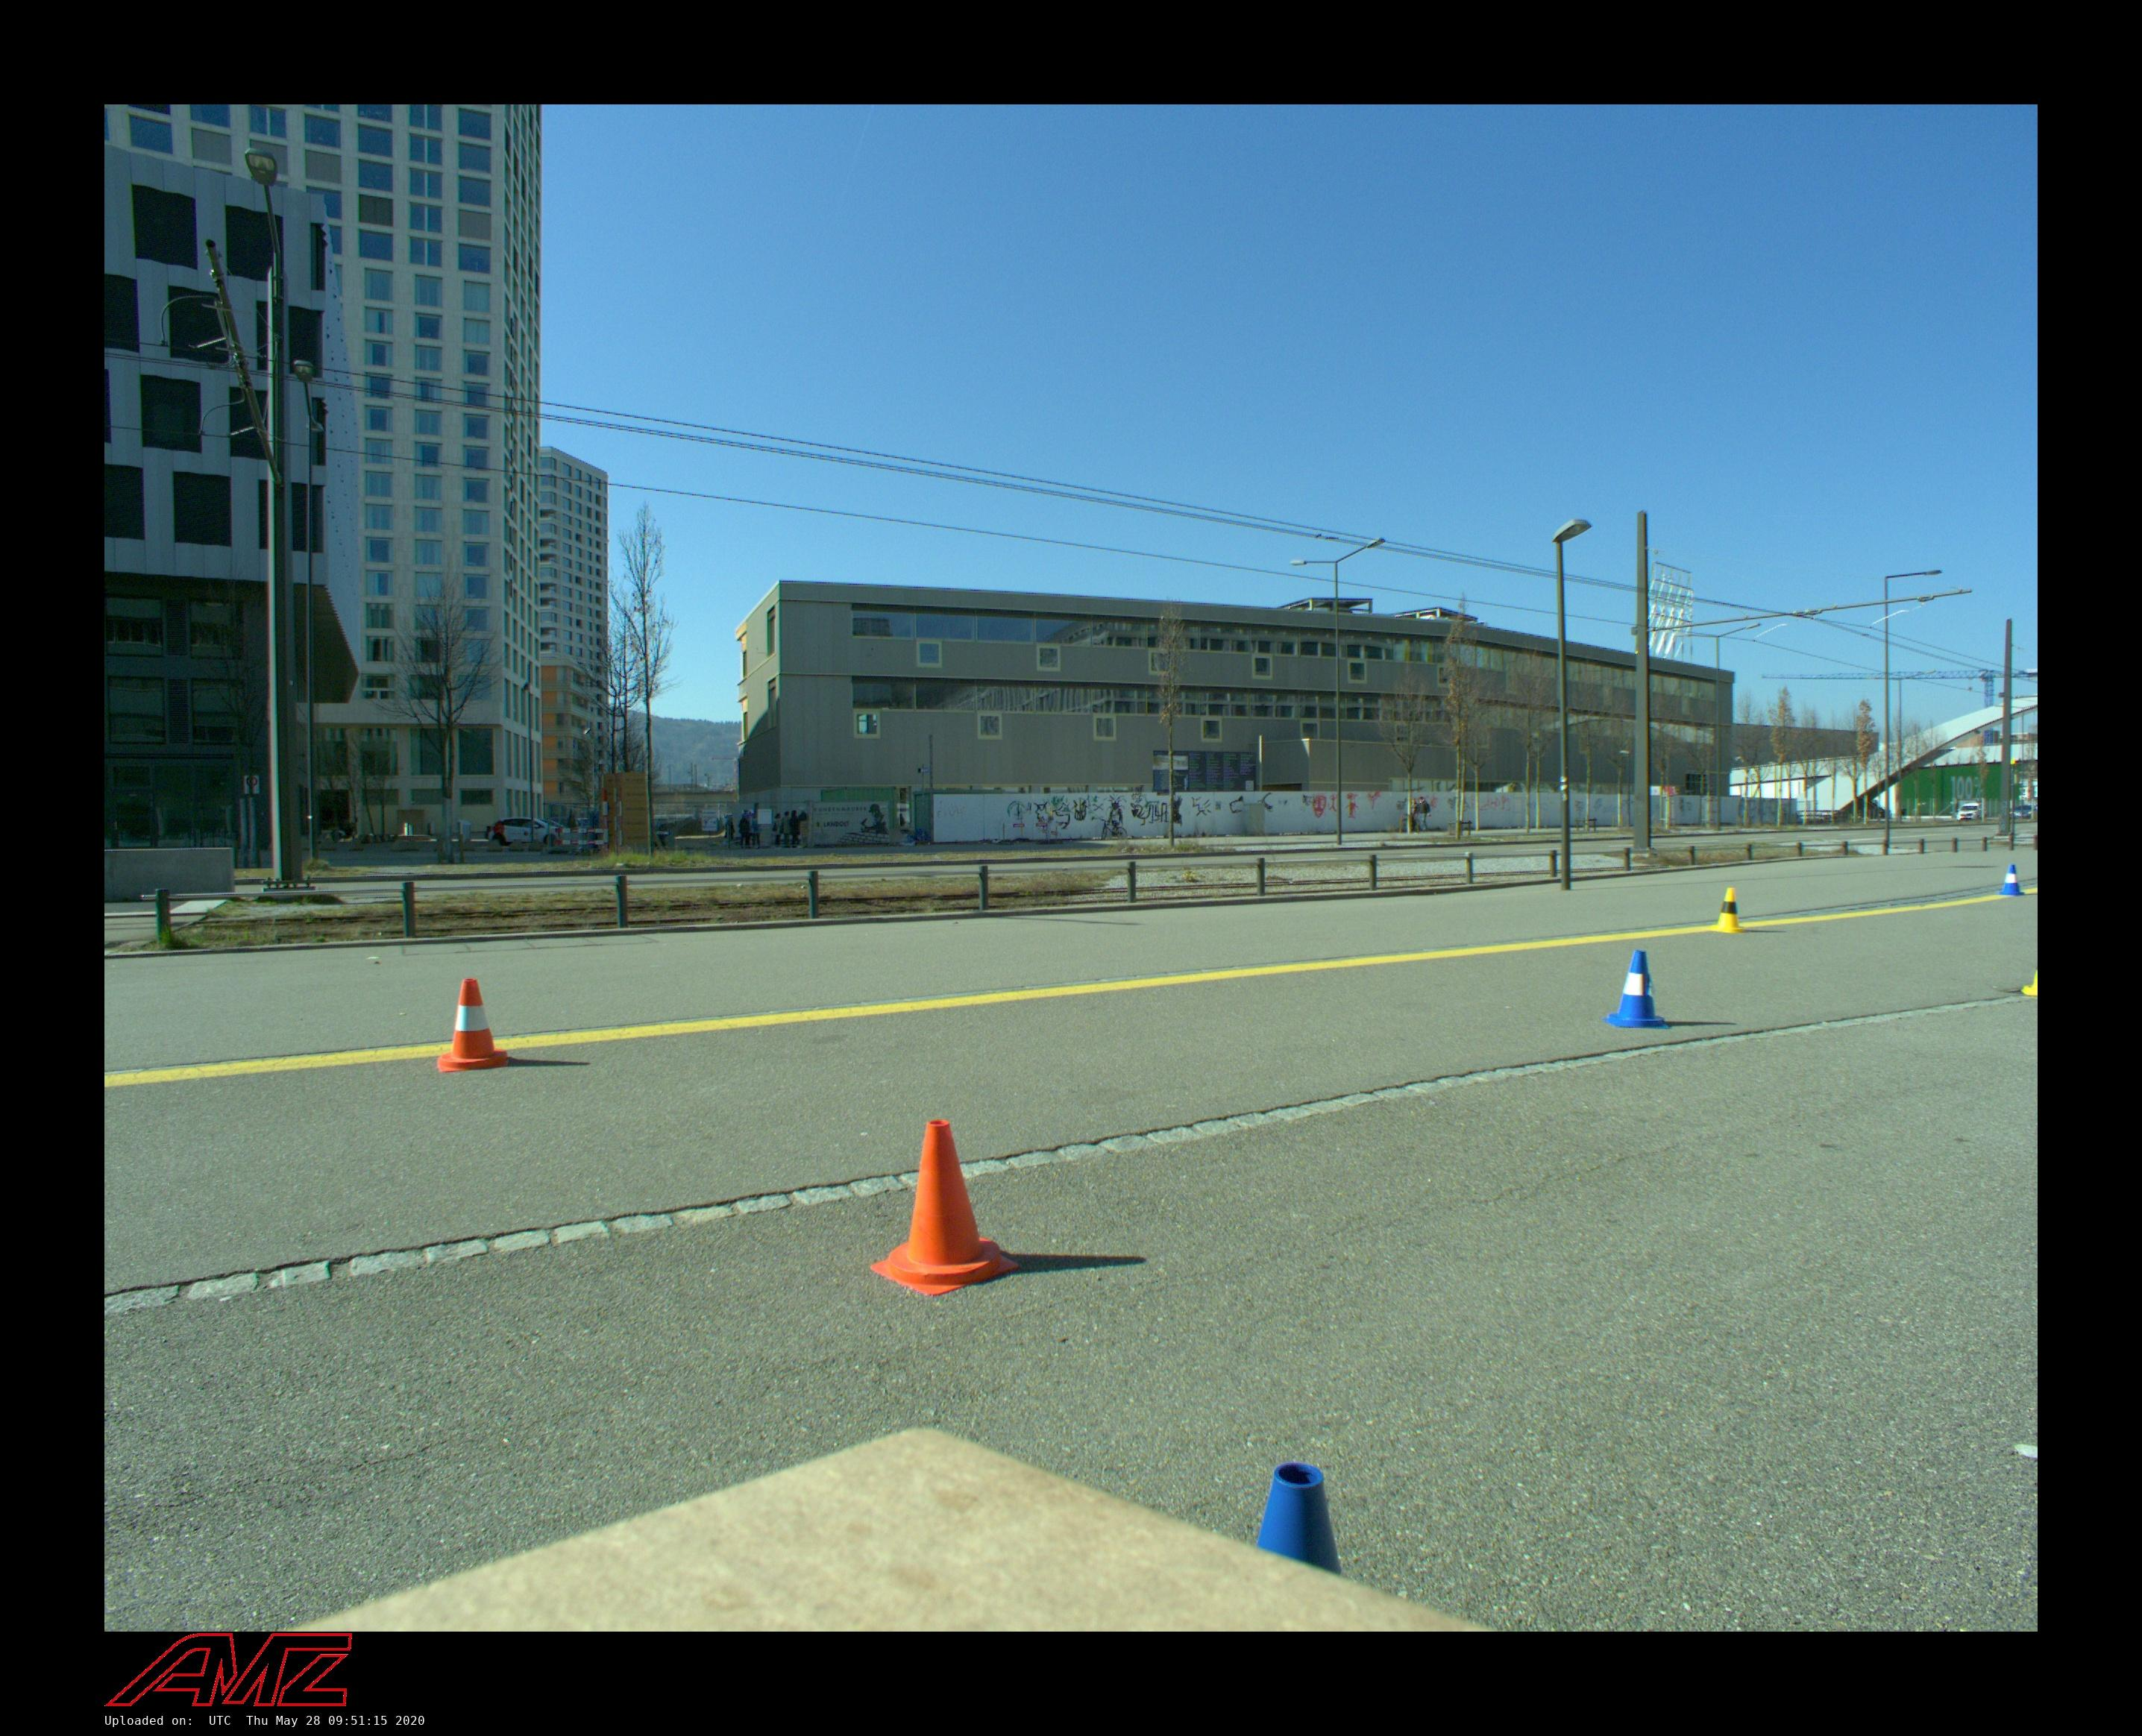blue_cone: (1603, 951, 1669, 1029), (1998, 864, 2025, 896)
orange_cone: (870, 1120, 1021, 1297), (436, 978, 508, 1072)
yellow_cone: (1711, 887, 1745, 934)
